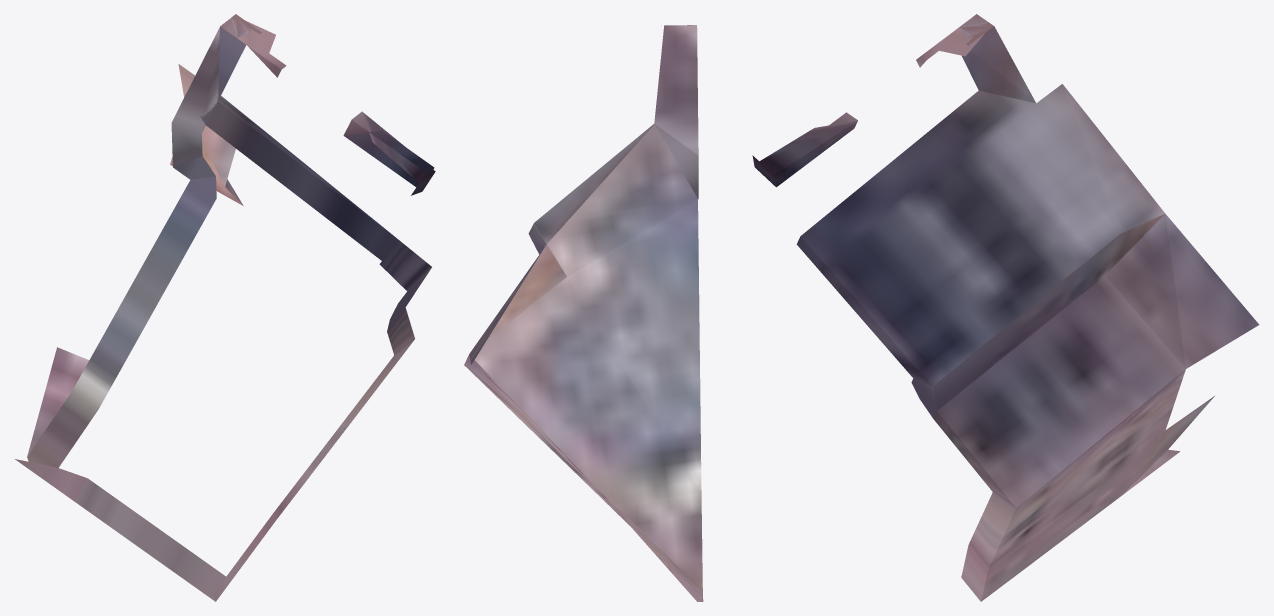
3 renders of one model, left to right at view 1: azimuth 30°, elevation 25°; view 2: azimuth 150°, elevation 25°; view 3: azimuth 270°, elevation 25°, orthographic. The views are drawn at different scales.
Bounding box in the file's own units: 10.4 × 17.88 × 13.94.
1 material, 1 textured.
